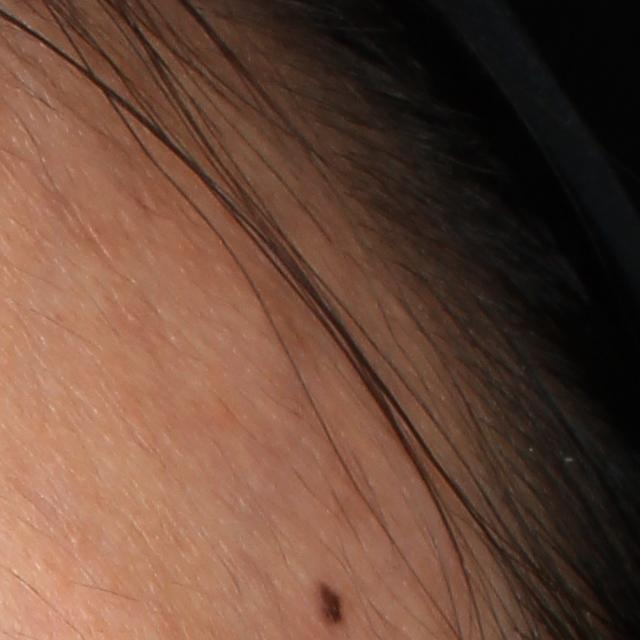nevus: (313, 577, 350, 623)
